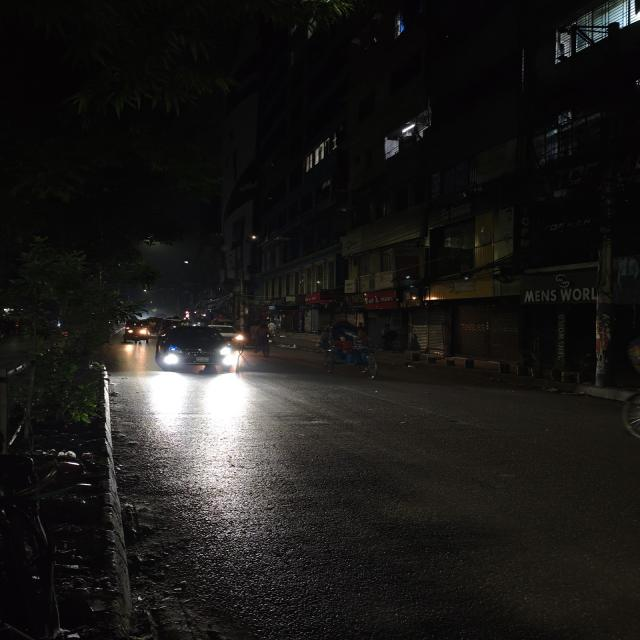car: (151, 324, 242, 376)
cng: (116, 313, 151, 350)
rickshaw: (313, 318, 384, 380), (243, 318, 274, 360)
